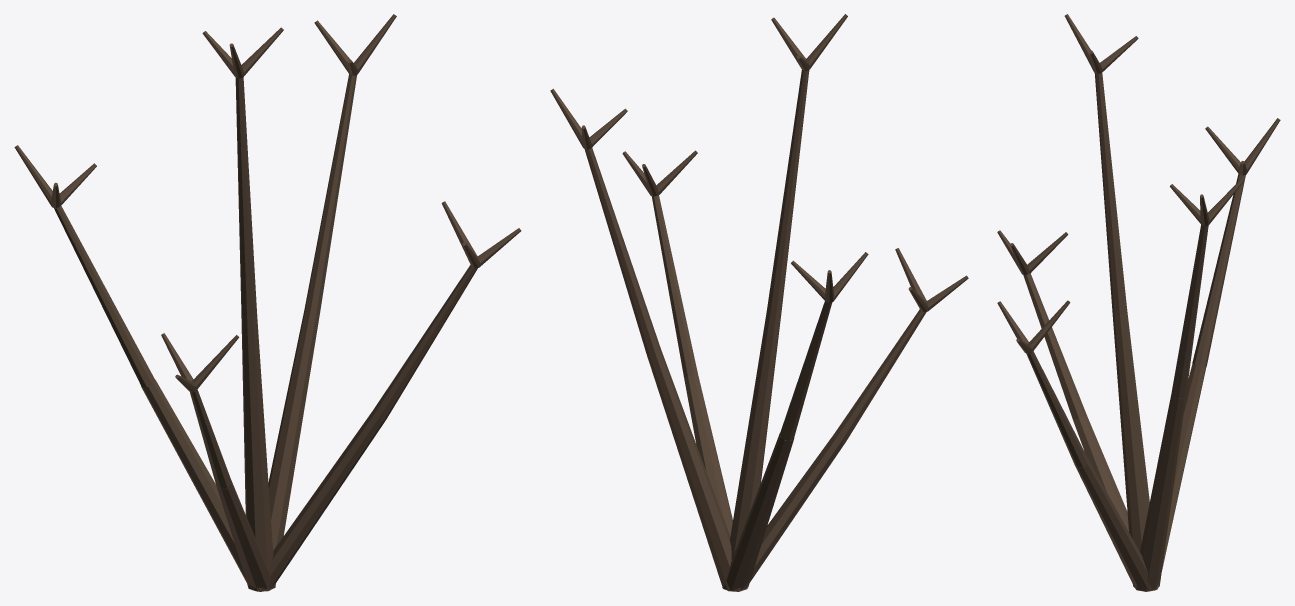
The model's file is elderberry_winter.glb.
3 views of the same model, side by side, from view 1: azimuth 30°, elevation 25°; view 2: azimuth 150°, elevation 25°; view 3: azimuth 270°, elevation 25° (orthographic). The views are drawn at different scales.
Parts seen in each view (by area): view 1: elderberry_winter; view 2: elderberry_winter; view 3: elderberry_winter.
Boxes of the visible parts, x1,y1,x2,y2 form: elderberry_winter: [14, 14, 521, 591]; elderberry_winter: [550, 14, 968, 591]; elderberry_winter: [997, 14, 1280, 591].
Bounding box in the file's own units: 1.43 × 2.22 × 1.06.
